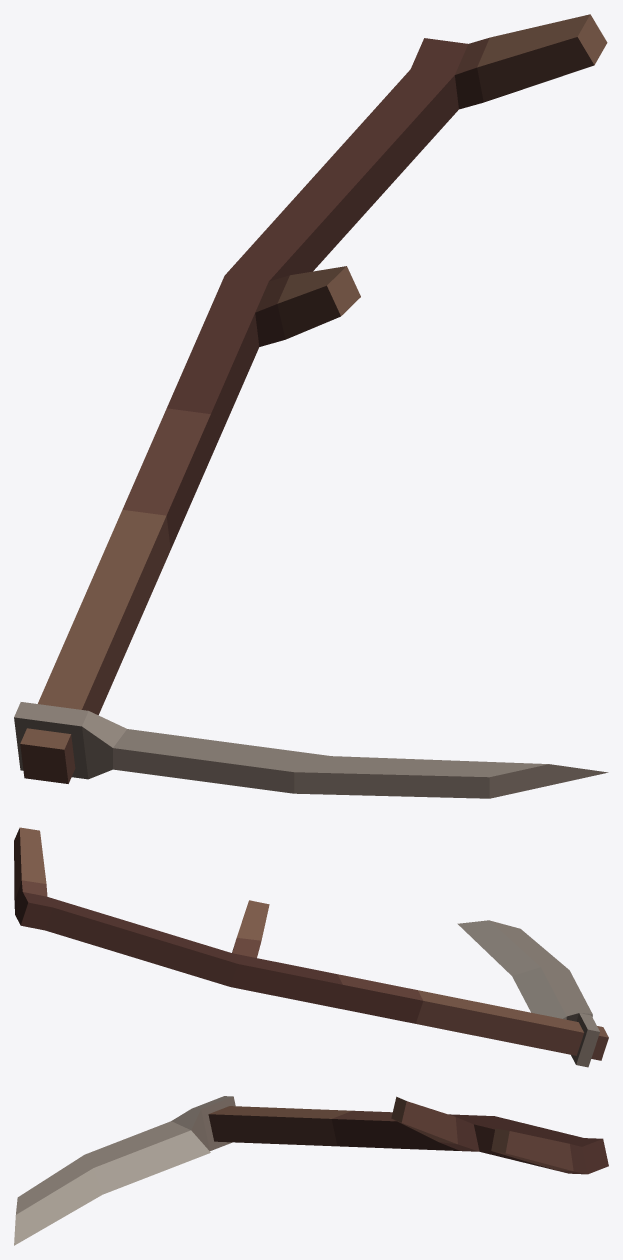
Rendered from scythe.glb.
The picture shows the model from 3 angles, top to bottom: view 1: azimuth 30°, elevation 25°; view 2: azimuth 150°, elevation 25°; view 3: azimuth 270°, elevation 25°; orthographic projection. The views are drawn at different scales.
Visible parts, largest first — view 1: scythe.001; view 2: scythe.001; view 3: scythe.001.
Part boxes in pixels (x1,y1,x2,y2): scythe.001: (14, 14, 608, 798); scythe.001: (14, 827, 608, 1067); scythe.001: (14, 1096, 608, 1245).
Bounding box in the file's own units: 2.51 × 1.16 × 2.53.
Materials: 1 (1 with a texture image).
